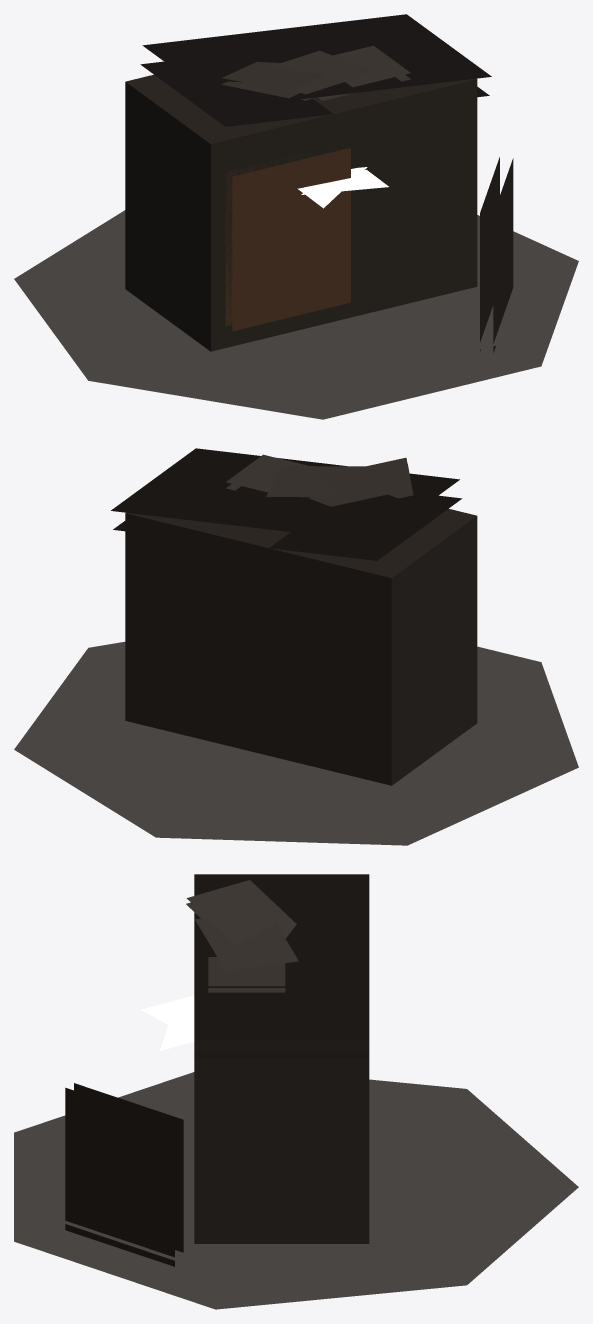
The model's file is prop_burnt_cabinet_lod1.glb.
3 renders of one model, top to bottom at view 1: azimuth 30°, elevation 25°; view 2: azimuth 150°, elevation 25°; view 3: azimuth 270°, elevation 25°, orthographic. The views are drawn at different scales.
Parts seen in each view (by area): view 1: prop_burnt_cabinet_lod1; view 2: prop_burnt_cabinet_lod1; view 3: prop_burnt_cabinet_lod1.
Boxes of the visible parts, left/top/right/bottom form: prop_burnt_cabinet_lod1: left=14, top=14, right=578, bottom=419; prop_burnt_cabinet_lod1: left=14, top=448, right=578, bottom=845; prop_burnt_cabinet_lod1: left=14, top=874, right=578, bottom=1309.
Size of the model in its own units: 1.66 by 0.8696 by 1.62.
